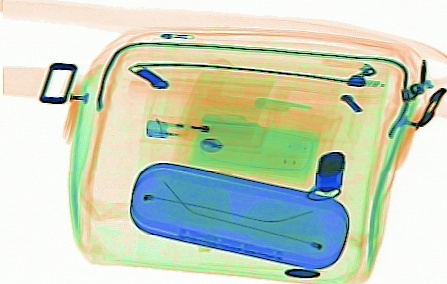lighter: (143, 114, 261, 147)
